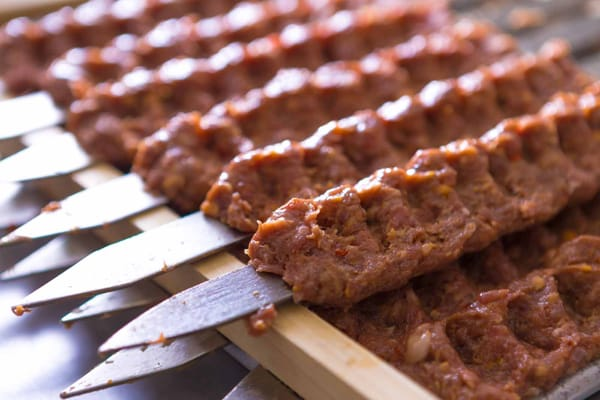sandwich: (60, 265, 294, 394), (40, 206, 249, 326)
